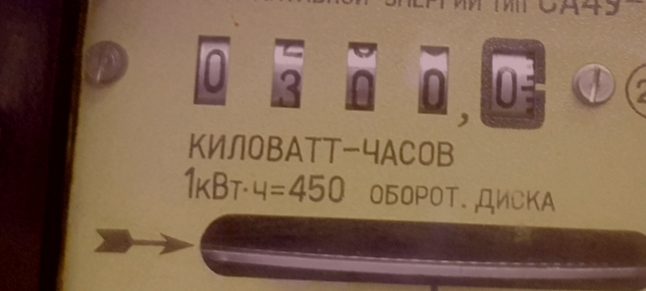0: (417, 67, 448, 114), (201, 45, 229, 97), (347, 65, 376, 114), (492, 64, 521, 113)
3: (274, 66, 304, 110)
screen: (172, 18, 557, 140)
